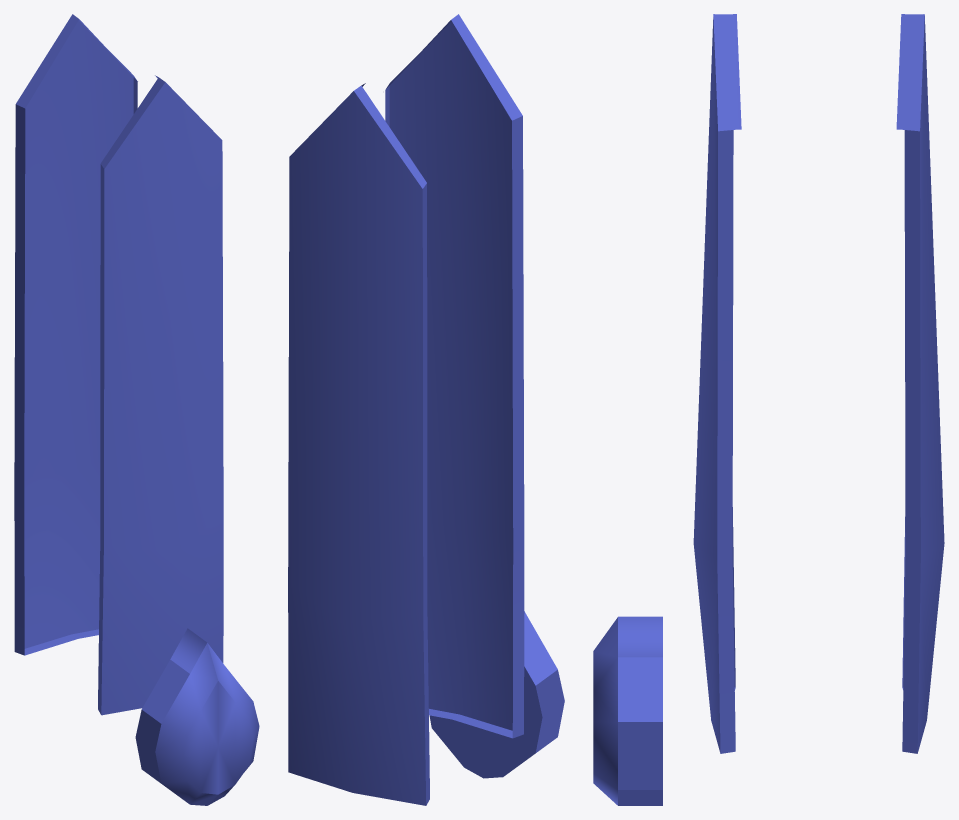
File: sapphire.fbx
3 views of the same model, side by side, from view 1: azimuth 30°, elevation 25°; view 2: azimuth 150°, elevation 25°; view 3: azimuth 270°, elevation 25° (orthographic). The views are drawn at different scales.
Visible parts, largest first — view 1: sapphire; view 2: sapphire; view 3: sapphire.
Part boxes in pixels (x1,y1,x2,y2): sapphire: (14,14,259,805); sapphire: (288,14,564,805); sapphire: (593,14,944,805).
Size of the model in its own units: 6.66 by 36.14 by 14.58.
